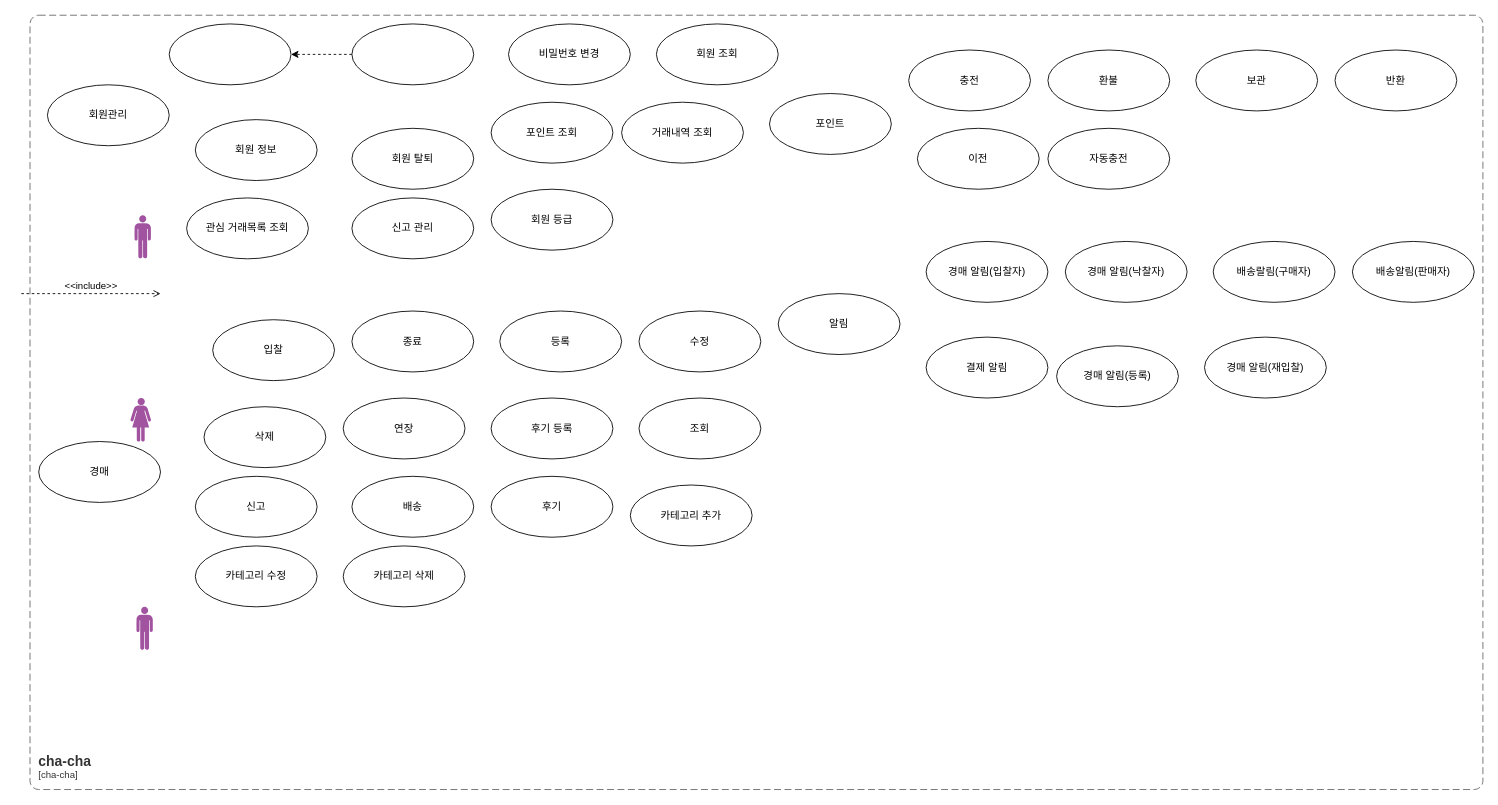
The diagram is 1498 pixels wide and 805 high, and some of its shapes have lost their labels. The shapes that lost their labels are listed below. From the top down, each one's centre as x and y in pixels, then its label:
[229,54]: 회원가입
[412,54]: 로그인
